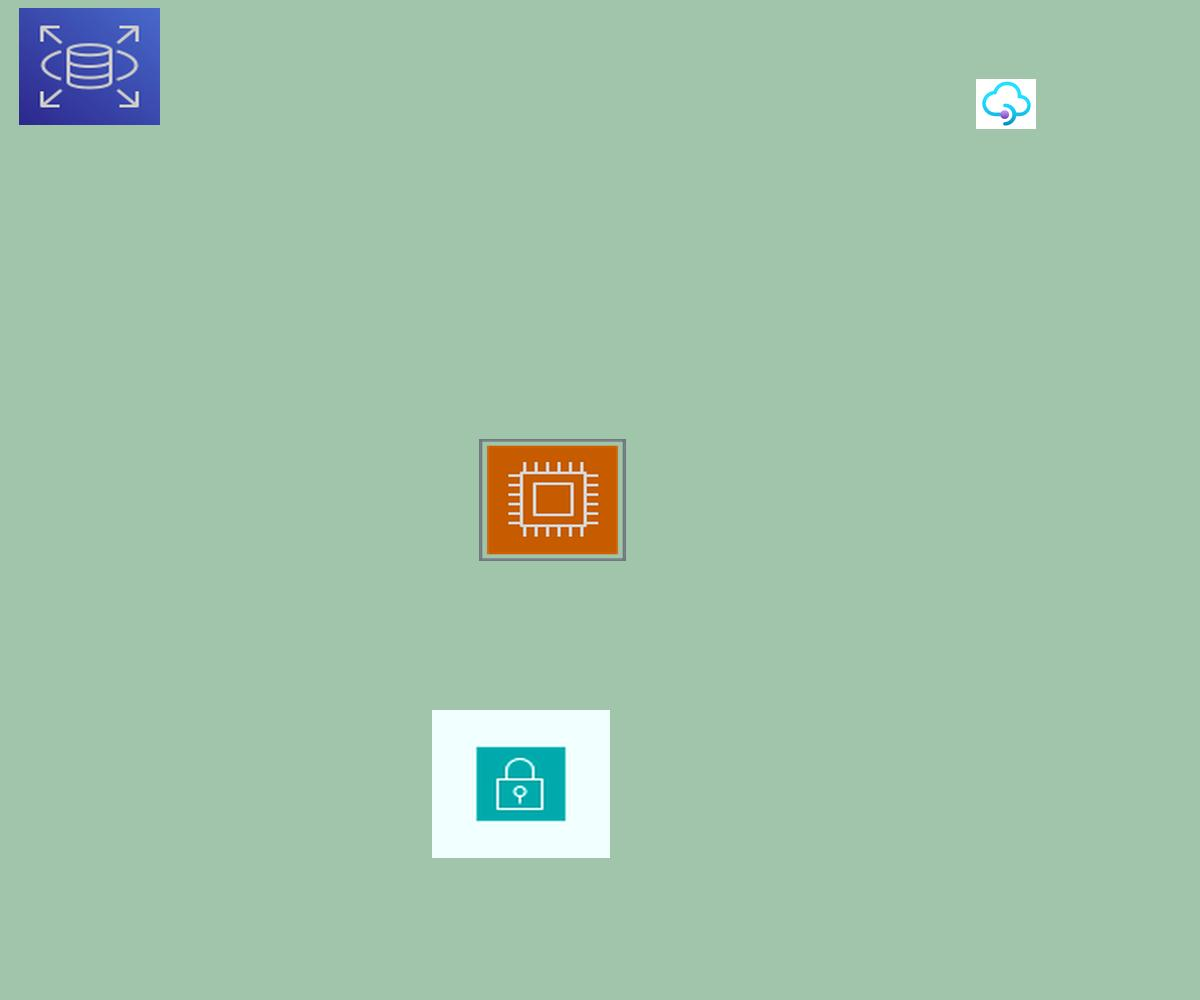AWS-Category_Compute: (479, 439, 626, 561)
AWS-Private-subnet: (432, 710, 610, 858)
AWS-RDS: (19, 8, 160, 125)
Azure_api_gateway: (976, 79, 1036, 129)
